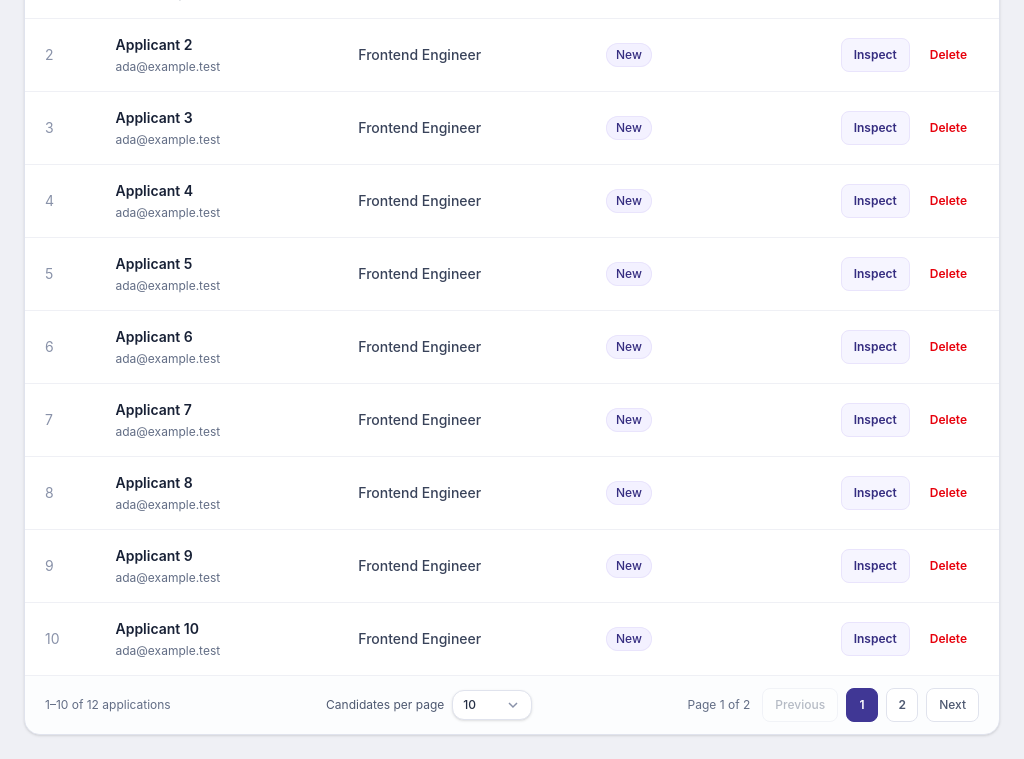
Scenario: paginates the table and resets the page when a filter changes
(page scrolled)
Expected: the text "Applicant 11" is not shown
Click the button "Next" at {"x": 953, "y": 705}, box [926, 688, 979, 722]
(page scrolled)
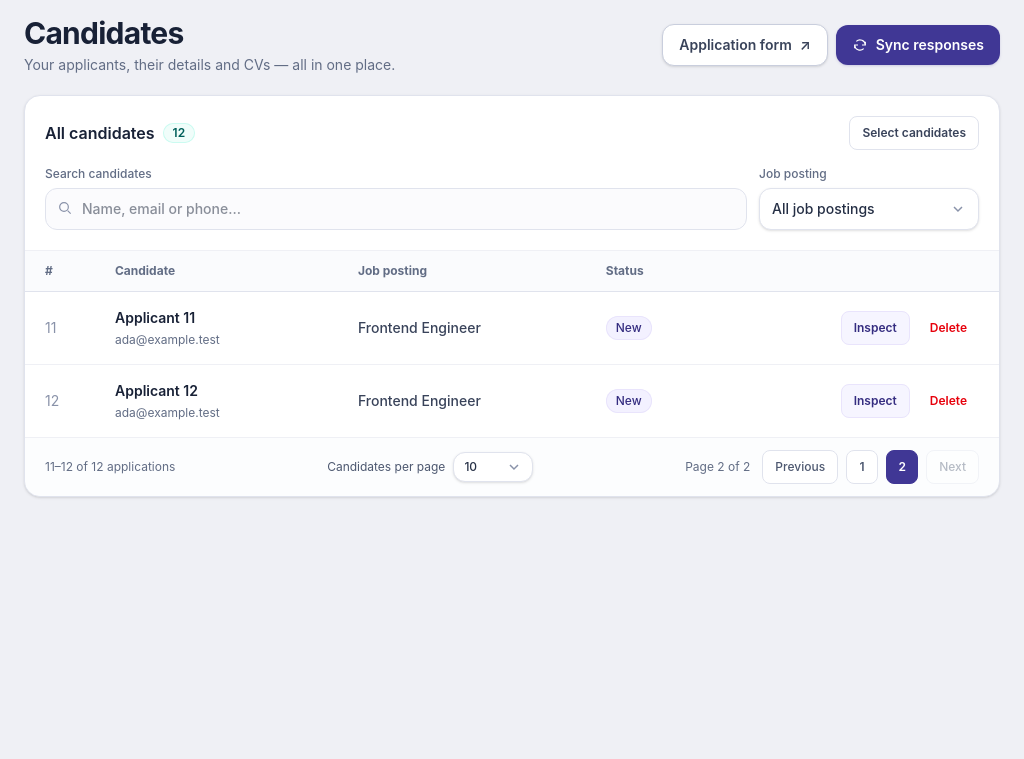
Now the text "Applicant 11" is shown, box [115, 309, 195, 326]
Now the cell "11" is shown, box [25, 292, 103, 364]
Type "Applicant 1" into the search field labelled "Search candidates" at {"x": 396, "y": 209}, box [45, 188, 747, 230]
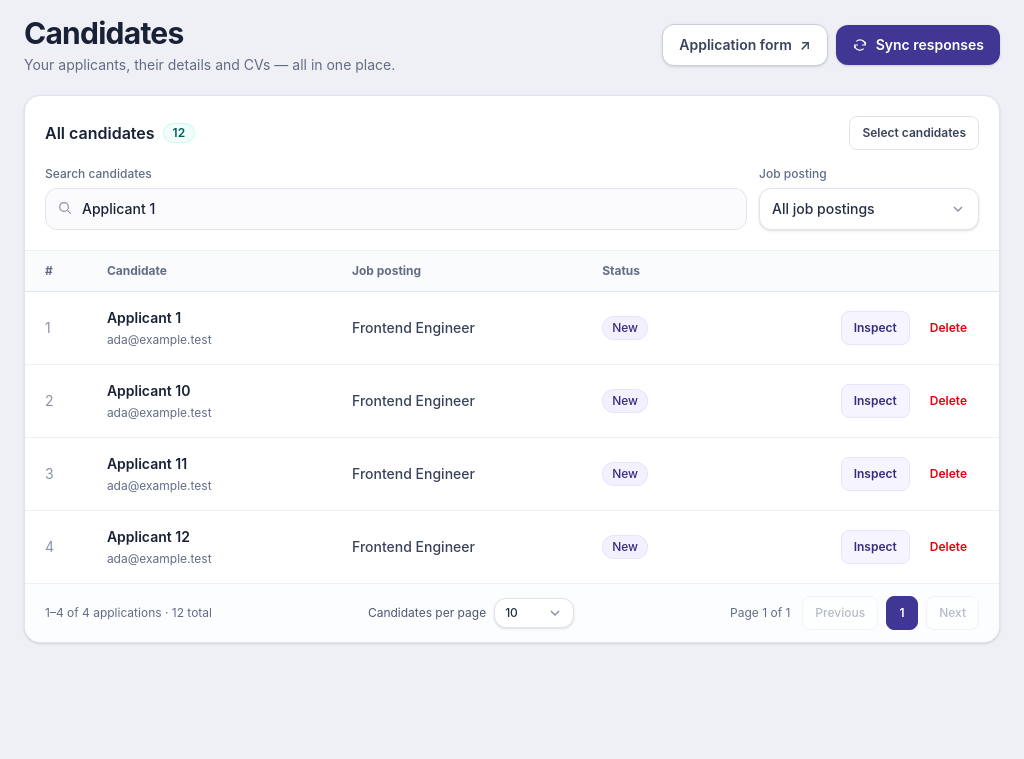
Now the button "Next" is disabled, box [926, 596, 979, 630]
Now the text "Applicant 1" is shown, box [107, 309, 181, 326]
